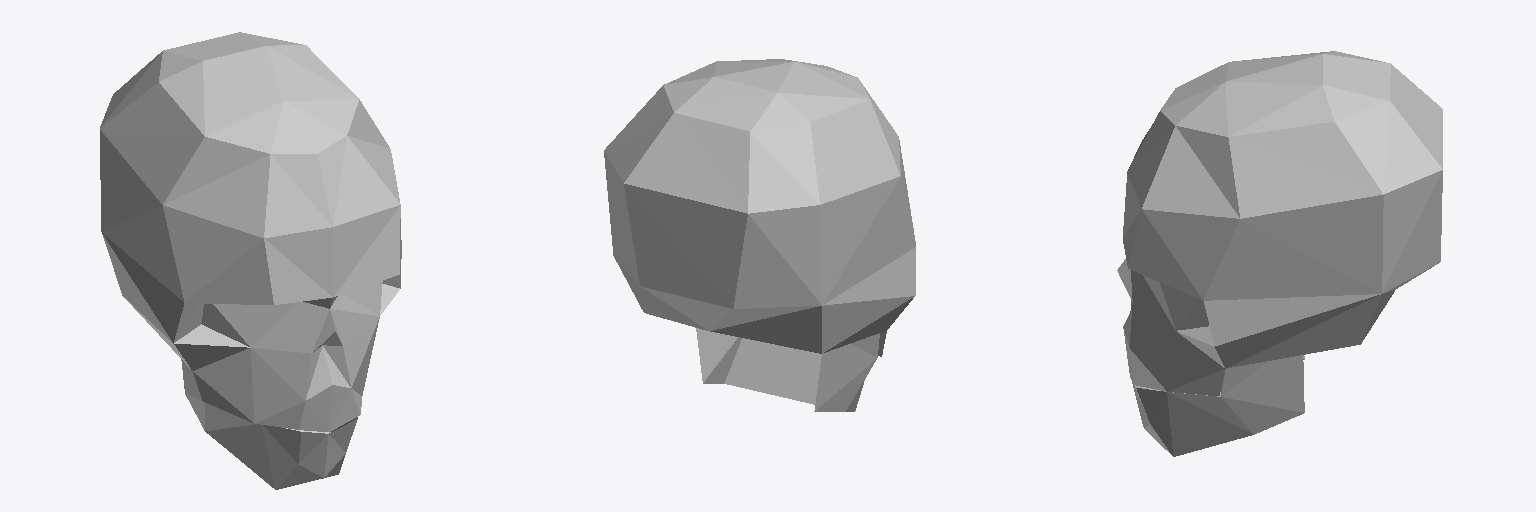
The model's file is skull.obj.
3 views of the same model, side by side, from view 1: azimuth 30°, elevation 25°; view 2: azimuth 150°, elevation 25°; view 3: azimuth 270°, elevation 25° (orthographic).
Visible parts, largest first — view 1: skull; view 2: skull; view 3: skull.
Part boxes in pixels (left/top/right/bottom): skull: left=100, top=32, right=401, bottom=489; skull: left=604, top=59, right=915, bottom=411; skull: left=1117, top=51, right=1442, bottom=456.
Size of the model in its own units: 92.8 by 144 by 114.